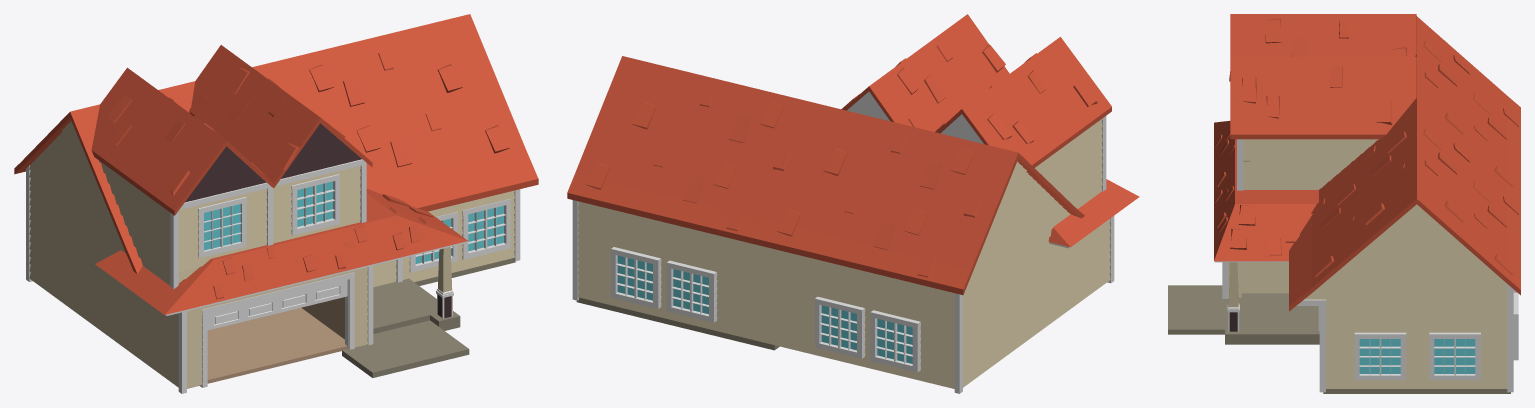
File: player_house.glb
3 renders of one model, left to right at view 1: azimuth 30°, elevation 25°; view 2: azimuth 150°, elevation 25°; view 3: azimuth 270°, elevation 25°, orthographic. The views are drawn at different scales.
Visible parts, largest first — view 1: Cube.522; view 2: Cube.522; view 3: Cube.522.
Boxes of the visible parts, x1=… form: Cube.522: x1=14, y1=14, x2=538, y2=393; Cube.522: x1=567, y1=14, x2=1139, y2=393; Cube.522: x1=1168, y1=14, x2=1520, y2=393.
Bounding box in the file's own units: 23.65 × 13.09 × 18.57.
